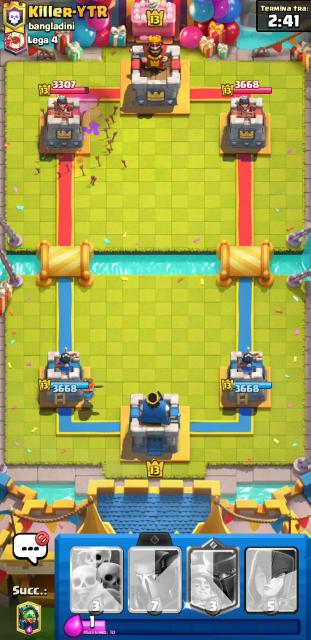ally_melee: (82, 378, 104, 406)
